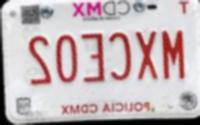License_Plate: (5, 0, 199, 120)
